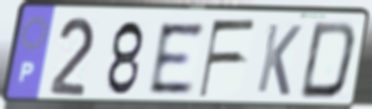2: (47, 16, 95, 99)
8: (106, 19, 144, 96)
D: (296, 19, 359, 102)
E: (147, 20, 207, 97)
F: (196, 18, 259, 101)
K: (254, 21, 304, 99)
